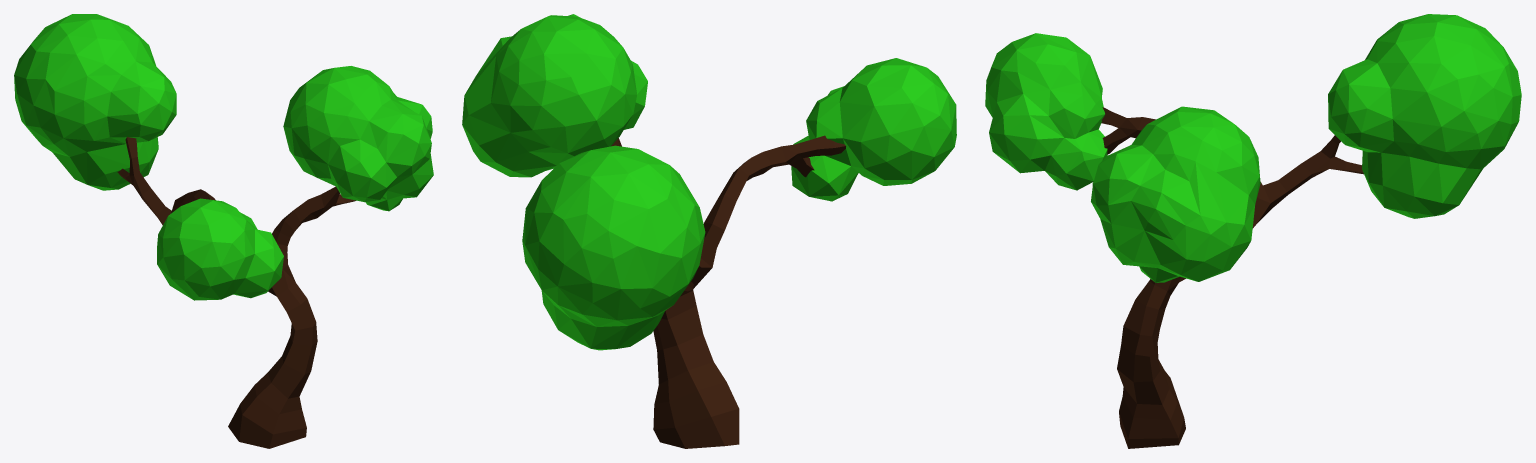
Rendered from medium-tree-light.obj.
3 renders of one model, left to right at view 1: azimuth 30°, elevation 25°; view 2: azimuth 150°, elevation 25°; view 3: azimuth 270°, elevation 25°, orthographic. The views are drawn at different scales.
Parts seen in each view (by area): view 1: LowPoly_Tree_03_lowpoly_tree_01_Plane.013; view 2: LowPoly_Tree_03_lowpoly_tree_01_Plane.013; view 3: LowPoly_Tree_03_lowpoly_tree_01_Plane.013.
Part boxes in pixels (x1,y1,x2,y2): LowPoly_Tree_03_lowpoly_tree_01_Plane.013: (14,14,433,448); LowPoly_Tree_03_lowpoly_tree_01_Plane.013: (462,14,956,448); LowPoly_Tree_03_lowpoly_tree_01_Plane.013: (985,14,1521,448).
Bounding box in the file's own units: 3.28 × 3.28 × 4.16.
